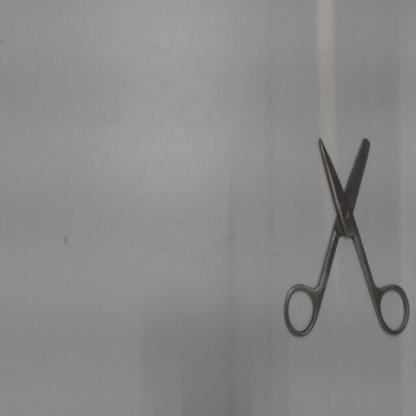Dressing Scissors: (278, 106, 414, 348)
